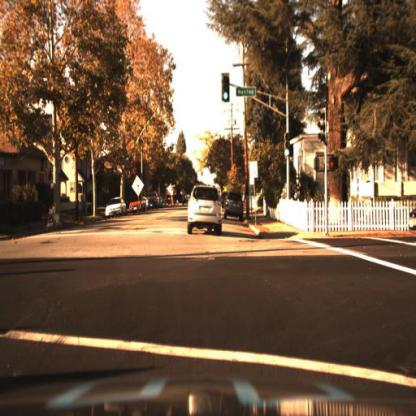car: (186, 184, 224, 233), (101, 197, 128, 224), (224, 191, 244, 225), (103, 198, 128, 221), (129, 194, 148, 217), (129, 195, 147, 217), (182, 189, 194, 211)
pedestrian: (31, 177, 41, 230)
trafficLight-Green: (221, 70, 231, 106), (284, 130, 292, 161), (284, 147, 291, 162)
